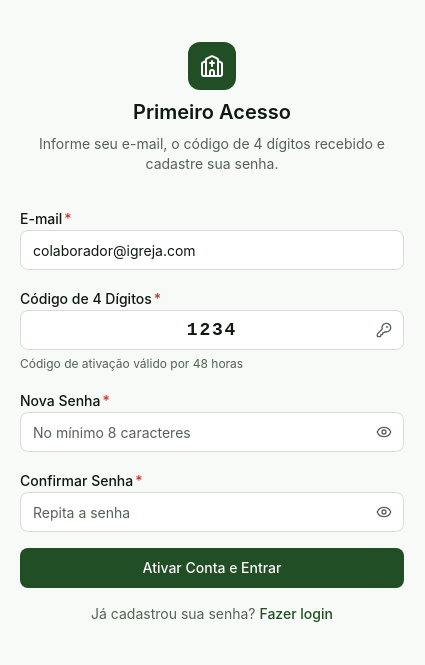
FirstAccessPage › exibe erro caso o código seja inválido ou expirado
Type "senha1234" into the password field labelled "Nova Senha*".
click(212, 432); type("senha1234")  # box [20,412,404,452]
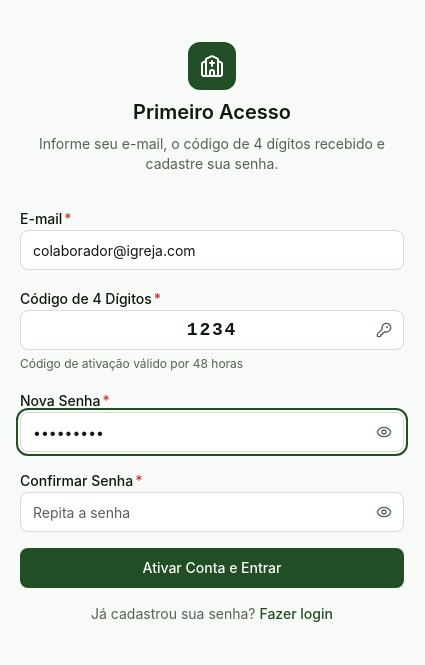
Type "senha1234" into the password field labelled "Confirmar Senha*".
click(212, 512); type("senha1234")  # box [20,492,404,532]
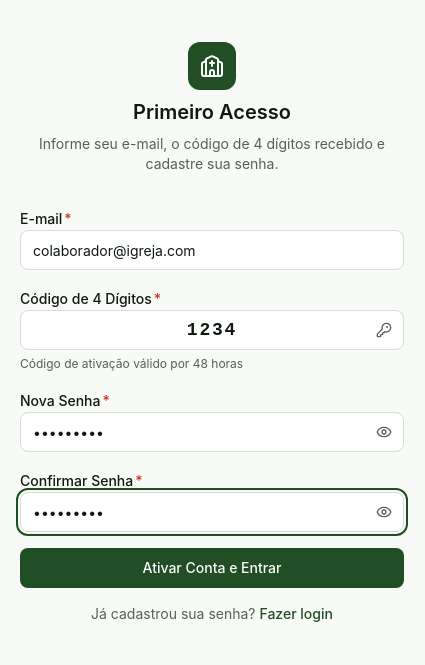
Click the button "Ativar Conta e Entrar".
click(212, 568)  # box [20,548,404,588]
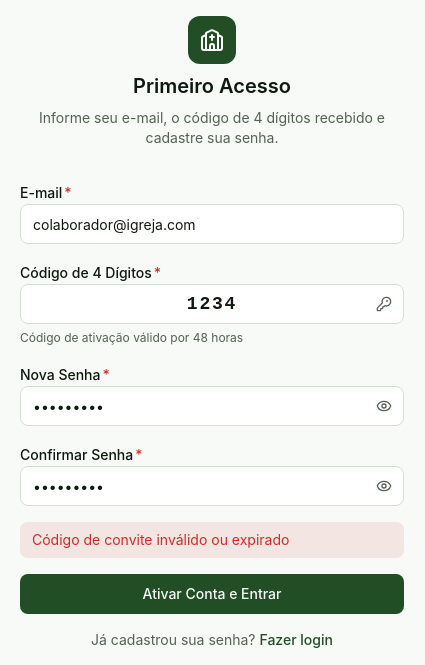
Now the text "Código de convite inválido ou expirado" is shown, box [20,522,404,558]
